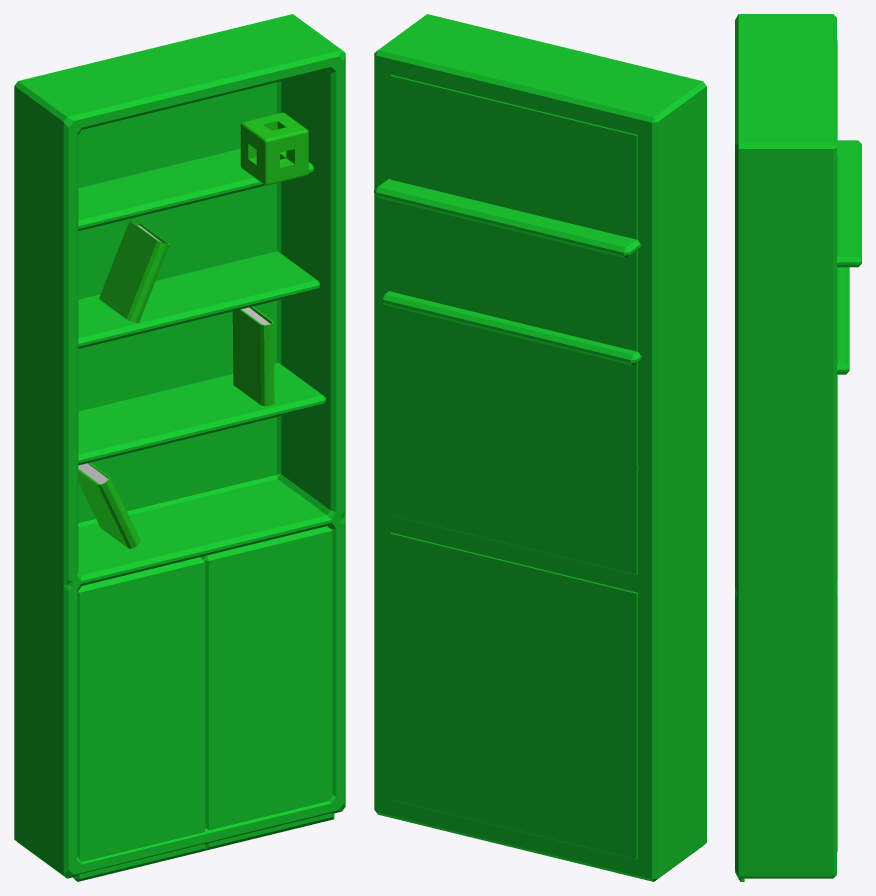
The model's file is room_escape_new_green.obj.
The picture shows the model from 3 angles, left to right: view 1: azimuth 30°, elevation 25°; view 2: azimuth 150°, elevation 25°; view 3: azimuth 270°, elevation 25°; orthographic projection. The views are drawn at different scales.
Visible parts, largest first — view 1: Cylinder.002_light_green, Sponge_green_book, Cube.018_green_book, Cube.032_green_book, Cube.006_green_book; view 2: Cylinder.002_light_green; view 3: Cylinder.002_light_green.
Part boxes in pixels (bbox=[...]): Cylinder.002_light_green: bbox=[14, 14, 345, 881]; Sponge_green_book: bbox=[240, 112, 308, 185]; Cube.018_green_book: bbox=[99, 220, 169, 322]; Cube.032_green_book: bbox=[232, 306, 274, 406]; Cube.006_green_book: bbox=[78, 462, 140, 548]; Cylinder.002_light_green: bbox=[374, 14, 706, 881]; Cylinder.002_light_green: bbox=[735, 14, 861, 881].
Size of the model in its own units: 1.23 by 3.2 by 0.4972.
